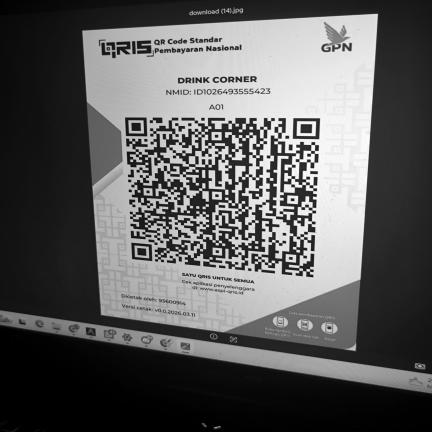Qris-Positioning: (83, 15, 377, 349)
